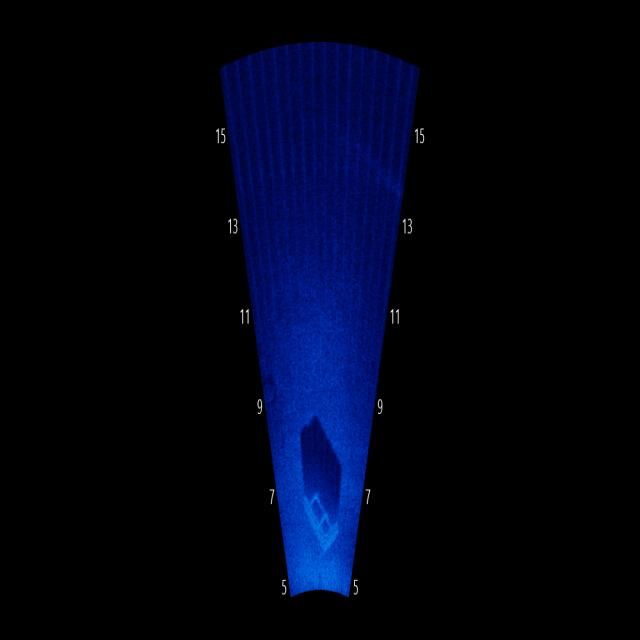square: (300, 472, 345, 557)
